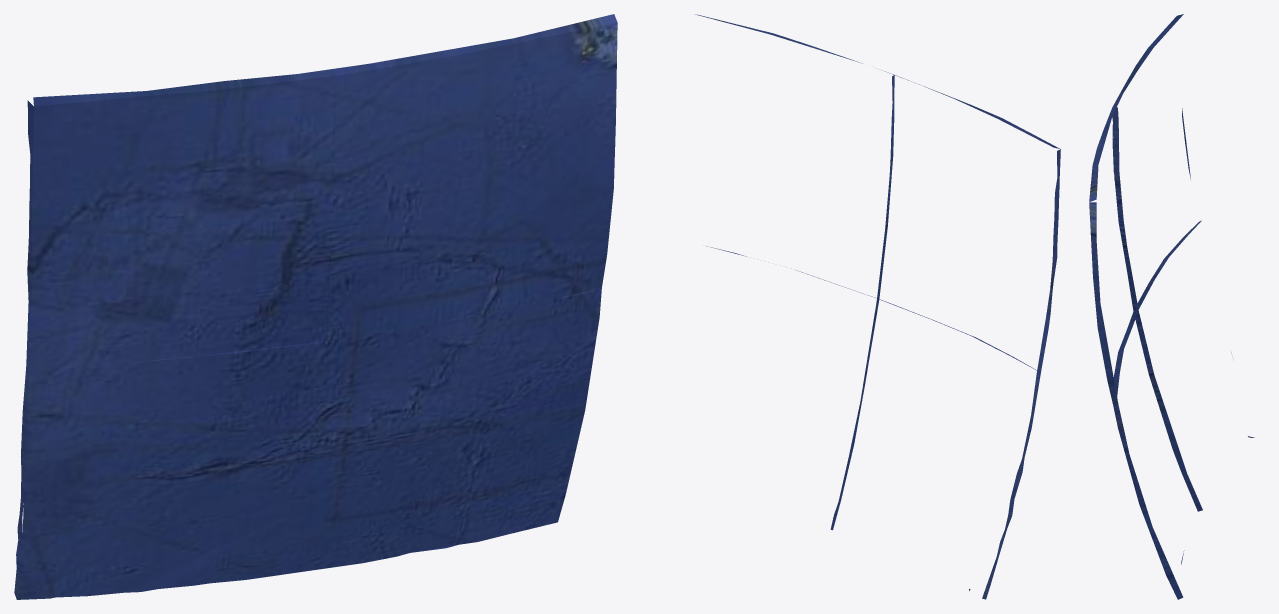
3 views of the same model, side by side, from view 1: azimuth 30°, elevation 25°; view 2: azimuth 150°, elevation 25°; view 3: azimuth 270°, elevation 25° (orthographic). The views are drawn at different scales.
Bounding box in the file's own units: 2469813 × 2456583 × 973585.
Materials: 1 (1 with a texture image).
